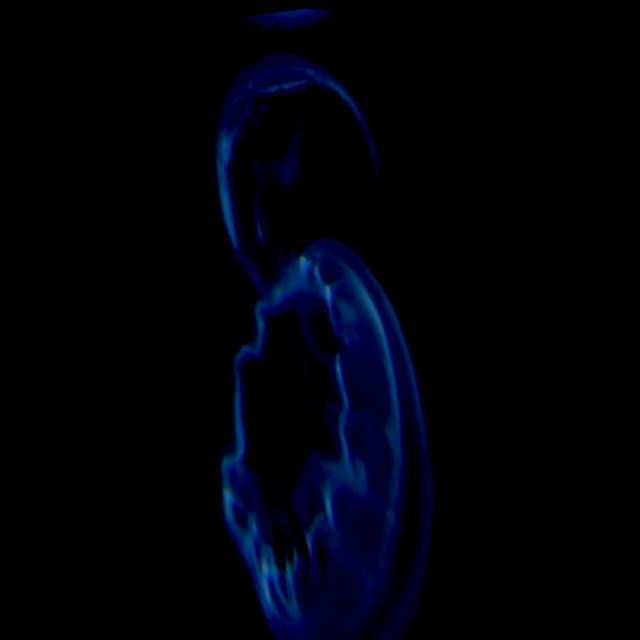Moon-jellyfish: (213, 233, 434, 640), (210, 49, 387, 295)
